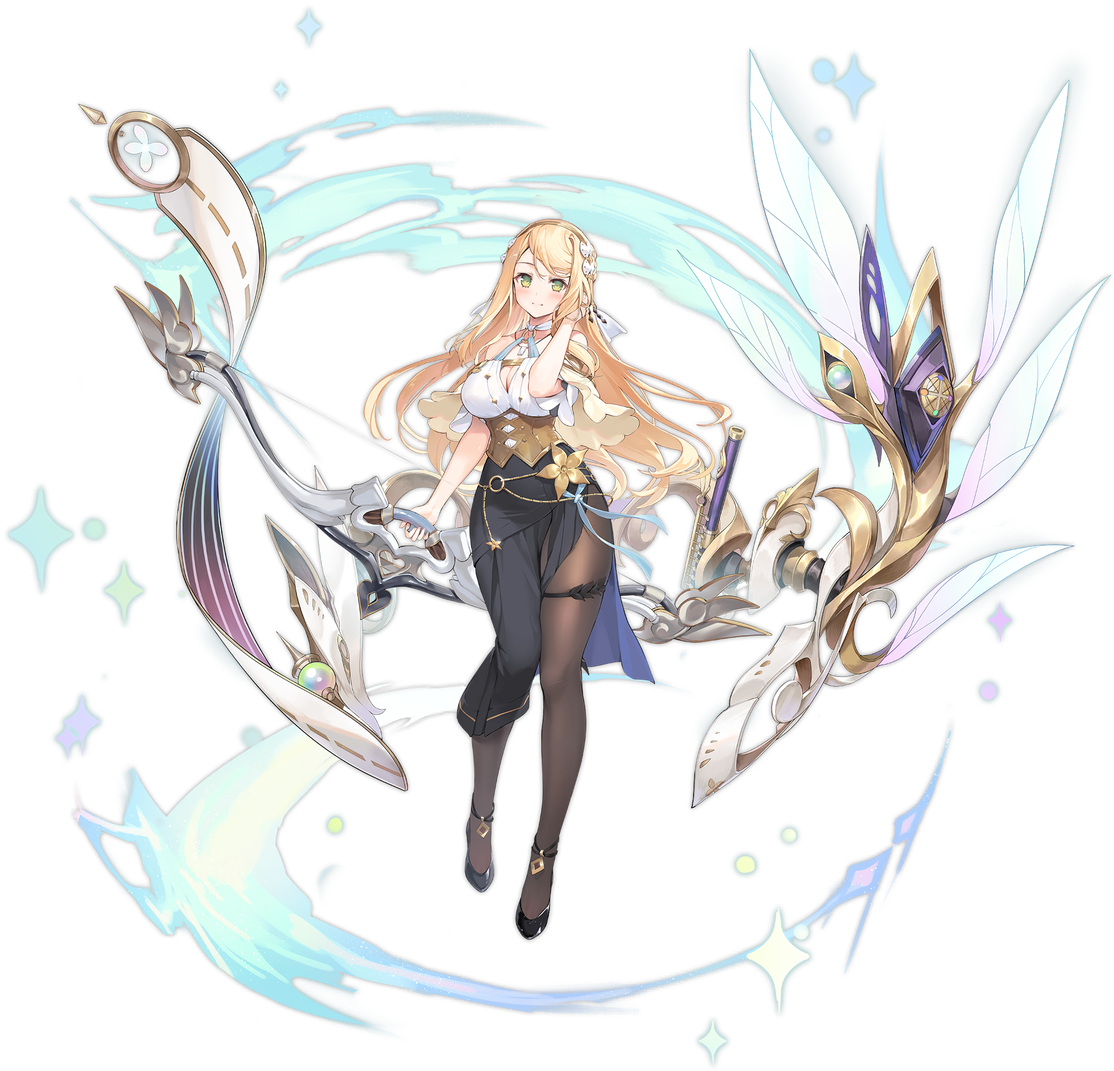person: (131, 143, 856, 986)
